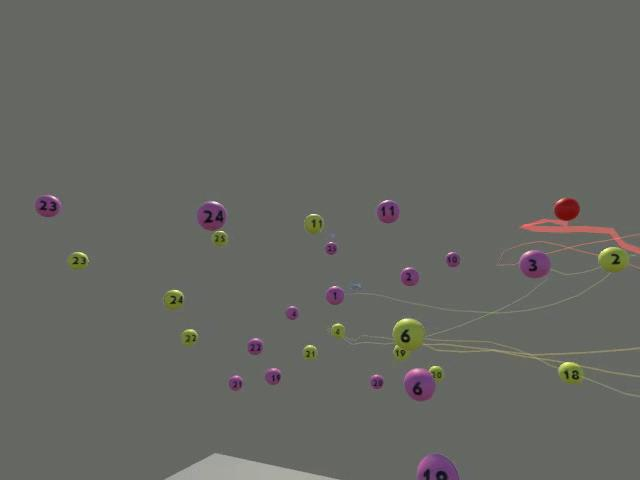ball_01_pink: (325, 285, 344, 304)
ball_02_pink: (400, 266, 419, 286)
ball_02_yellow: (597, 246, 628, 272)
ball_03_pink: (518, 249, 550, 277)
ball_04_pink: (285, 305, 298, 320)
ball_04_yellow: (330, 322, 344, 339)
ball_06_pink: (403, 367, 435, 401)
ball_06_yellow: (391, 317, 424, 351)
ball_10_pink: (445, 251, 460, 267)
ball_11_pink: (376, 199, 399, 223)
ball_11_yellow: (303, 213, 323, 234)
ball_18_yellow: (557, 361, 583, 383)
ball_19_pink: (264, 367, 282, 386)
ball_20_pink: (369, 373, 383, 389)
ball_21_yellow: (302, 344, 317, 360), (228, 374, 242, 390)
ball_22_pink: (247, 337, 263, 354)
ball_22_yellow: (180, 328, 197, 345)
ball_23_pink: (34, 194, 61, 217)
ball_23_yellow: (67, 251, 88, 269)
ball_24_pink: (196, 200, 227, 230)
ball_24_yellow: (163, 289, 183, 309)
ball_25_pink: (324, 241, 337, 255)
ball_25_yellow: (210, 229, 228, 246)
ball_unknown: (416, 453, 458, 479), (392, 344, 410, 360), (428, 365, 443, 381)
user_cursor: (553, 197, 579, 221)
